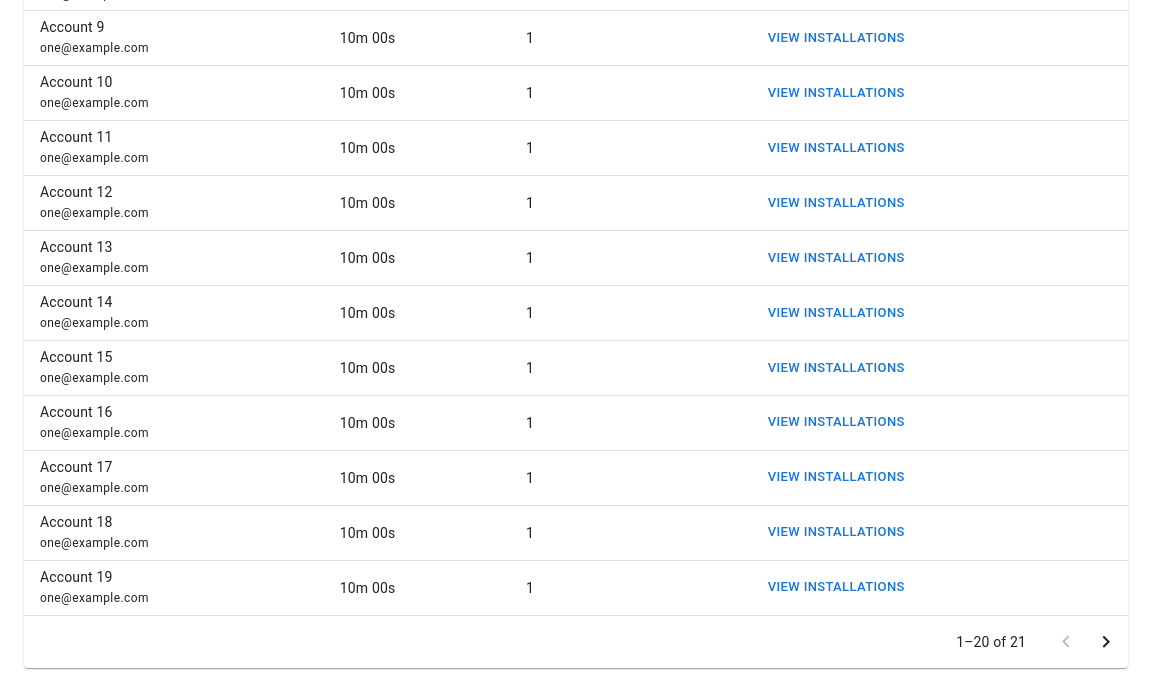
Test: returns to the first user page when a fast mutation reload replaces the report
(page scrolled)
Click the button named "Go to next page" at (1106, 642), box 1086,622 -> 1126,662
(page scrolled)
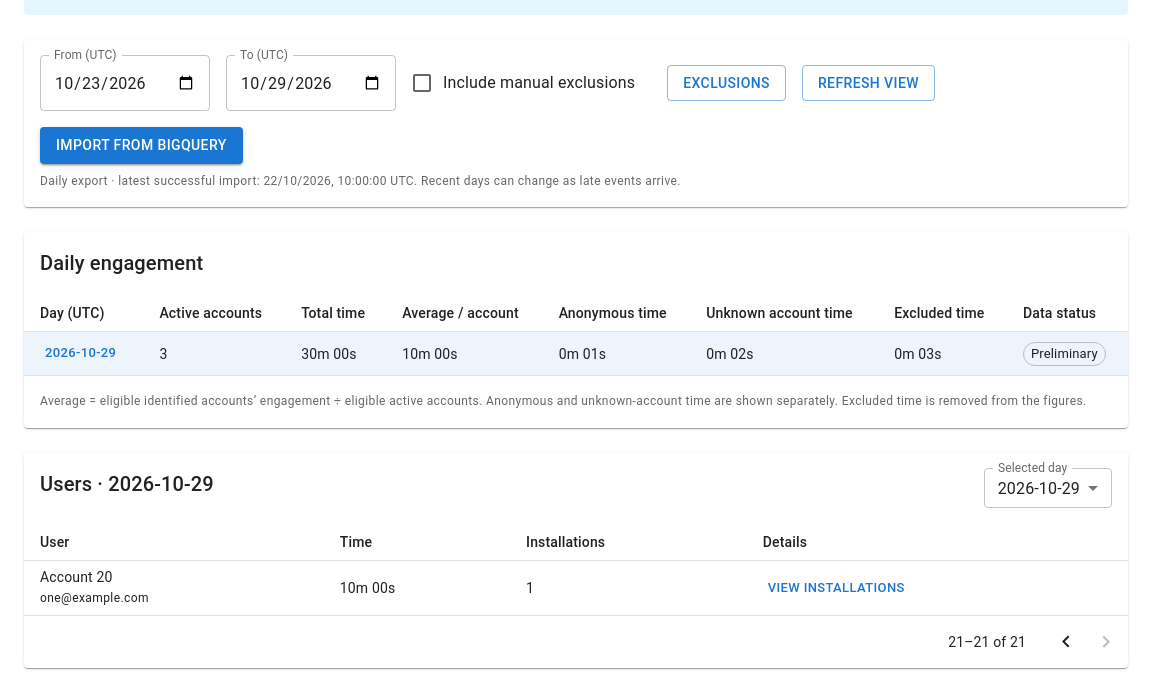
Result: the text "Account 20" is shown at 40,569 -> 112,585
Click the button "View installations" at (836, 588), box 763,573 -> 910,604
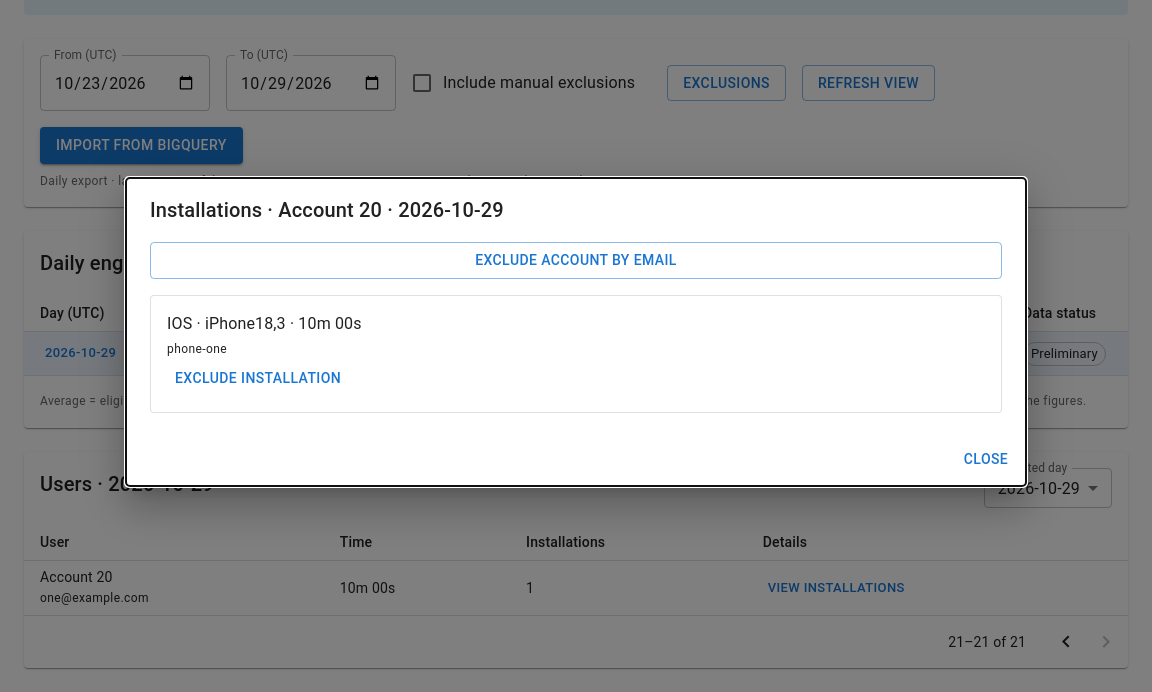
Click the button "Exclude account by email" at (576, 261), box 150,242 -> 1002,279
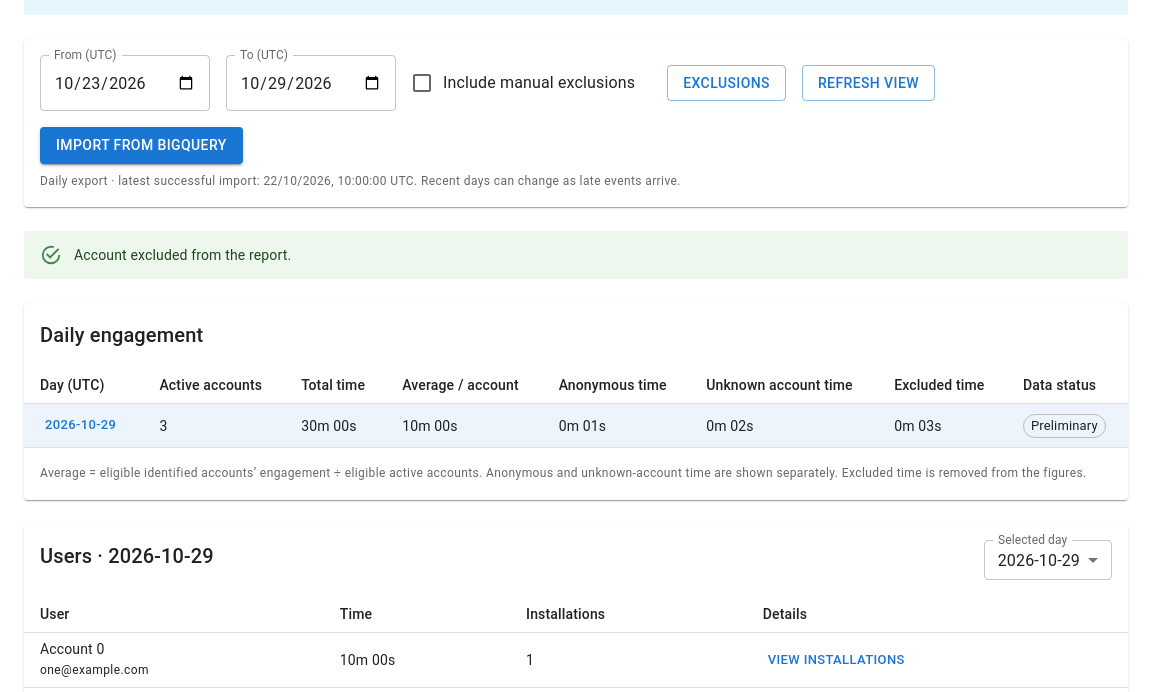
Result: the text "Account 0" is shown at 40,641 -> 104,657
Result: the text "Account 20" is gone
